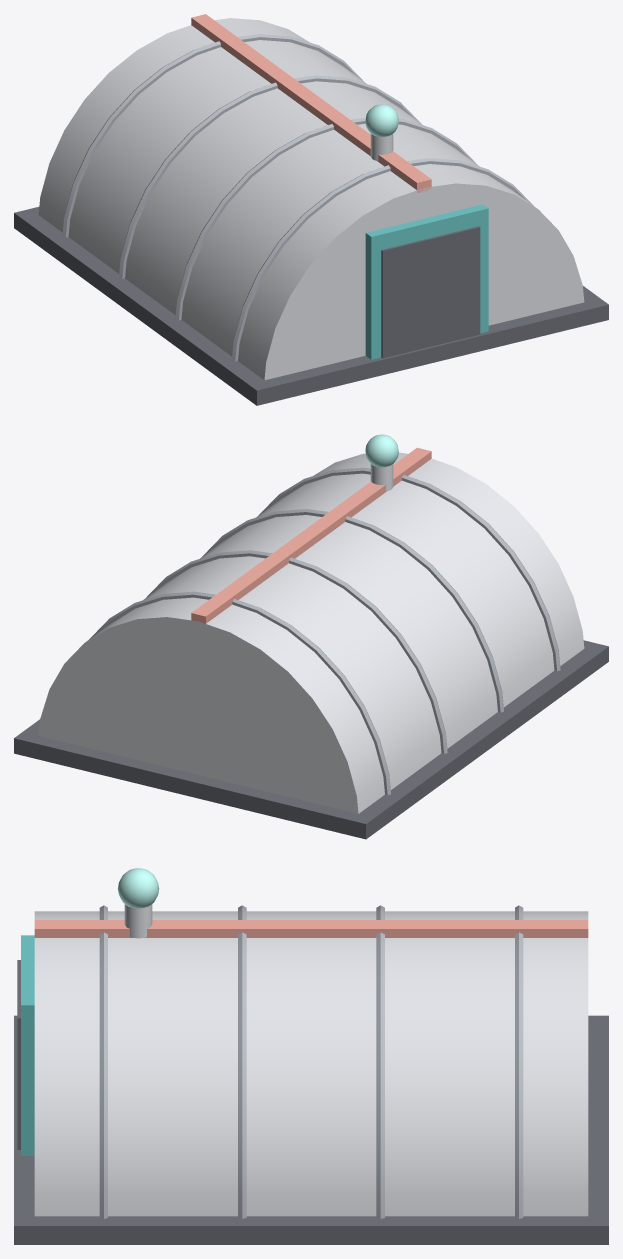
The model's file is ic_barracks.glb.
3 renders of one model, top to bottom at view 1: azimuth 30°, elevation 25°; view 2: azimuth 150°, elevation 25°; view 3: azimuth 270°, elevation 25°, orthographic. The views are drawn at different scales.
Parts seen in each view (by area): view 1: ic_barracks; view 2: ic_barracks; view 3: ic_barracks.
Boxes of the visible parts, x1=… form: ic_barracks: x1=14, y1=14, x2=608, y2=405; ic_barracks: x1=14, y1=434, x2=608, y2=839; ic_barracks: x1=14, y1=868, x2=608, y2=1244.
Size of the model in its own units: 7.2 by 4.3 by 8.6.
